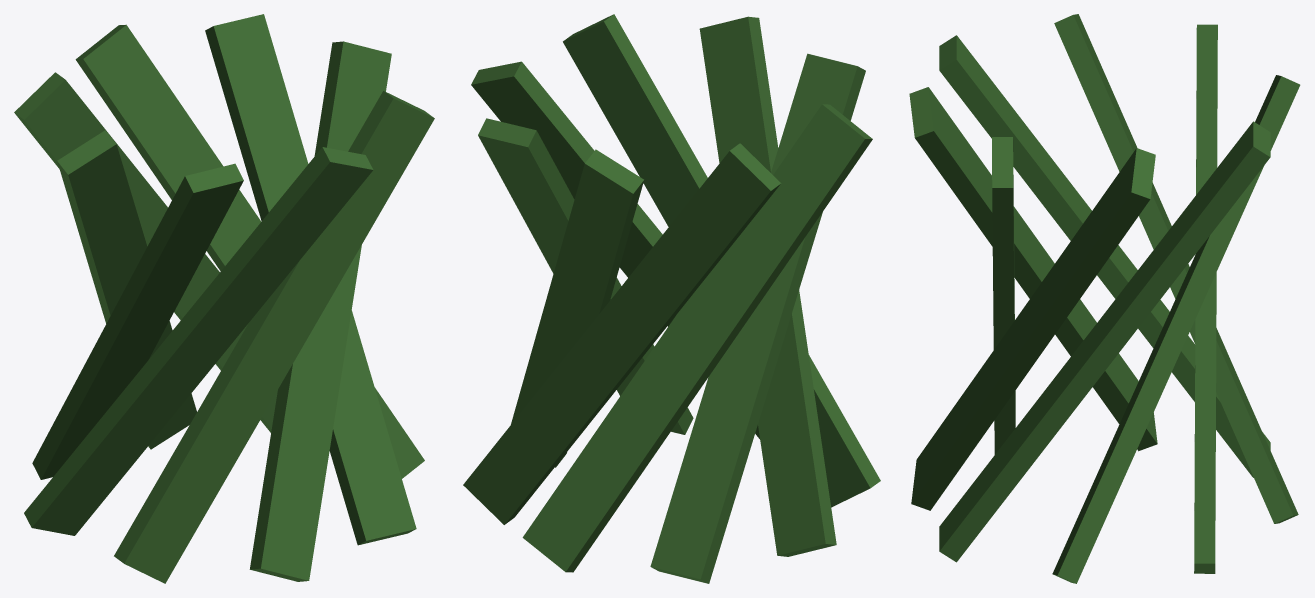
Rendered from f26-fern-clump.glb.
3 renders of one model, left to right at view 1: azimuth 30°, elevation 25°; view 2: azimuth 150°, elevation 25°; view 3: azimuth 270°, elevation 25°, orthographic.
Parts seen in each view (by area): view 1: part6, part5, part7, part0, part4, part1, part3, part2; view 2: part3, part2, part4, part5, part6, part1, part7, part0; view 3: part0, part7, part1, part4, part5, part3, part2, part6.
Boxes of the visible parts, <box> form: part6: <box>114,91,434,583</box>; part5: <box>24,147,373,535</box>; part7: <box>249,41,391,581</box>; part0: <box>205,14,416,545</box>; part4: <box>32,163,243,479</box>; part1: <box>75,24,424,478</box>; part3: <box>57,130,196,449</box>; part2: <box>14,72,277,432</box>; part3: <box>522,104,872,572</box>; part2: <box>463,143,781,524</box>; part4: <box>650,53,865,583</box>; part5: <box>699,16,836,556</box>; part6: <box>563,14,880,507</box>; part1: <box>511,149,643,467</box>; part7: <box>471,61,759,438</box>; part0: <box>478,118,693,434</box>; part0: <box>939,121,1270,562</box>; part7: <box>911,148,1155,510</box>; part1: <box>1052,75,1300,583</box>; part4: <box>939,35,1270,477</box>; part5: <box>909,87,1157,451</box>; part3: <box>1054,14,1298,523</box>; part2: <box>1194,24,1217,573</box>; part6: <box>992,137,1015,454</box>.
Size of the model in its own units: 501 by 573 by 465.
